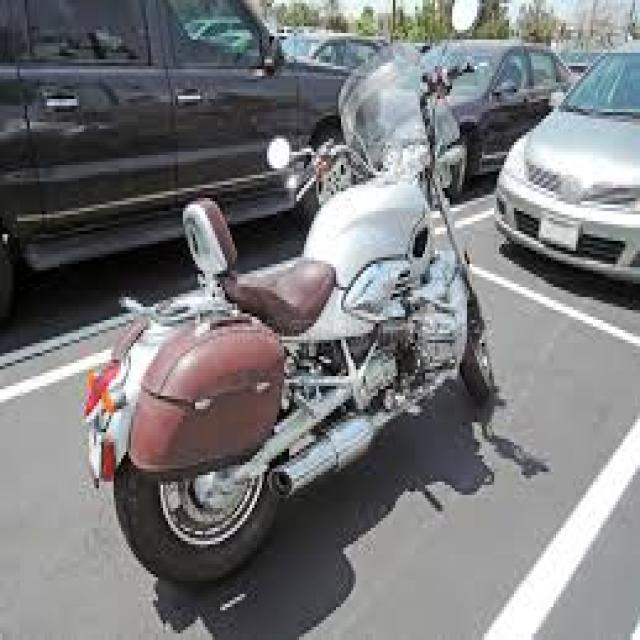bike: (68, 28, 511, 601)
car: (0, 2, 355, 222), (512, 44, 640, 268), (408, 42, 550, 156)
